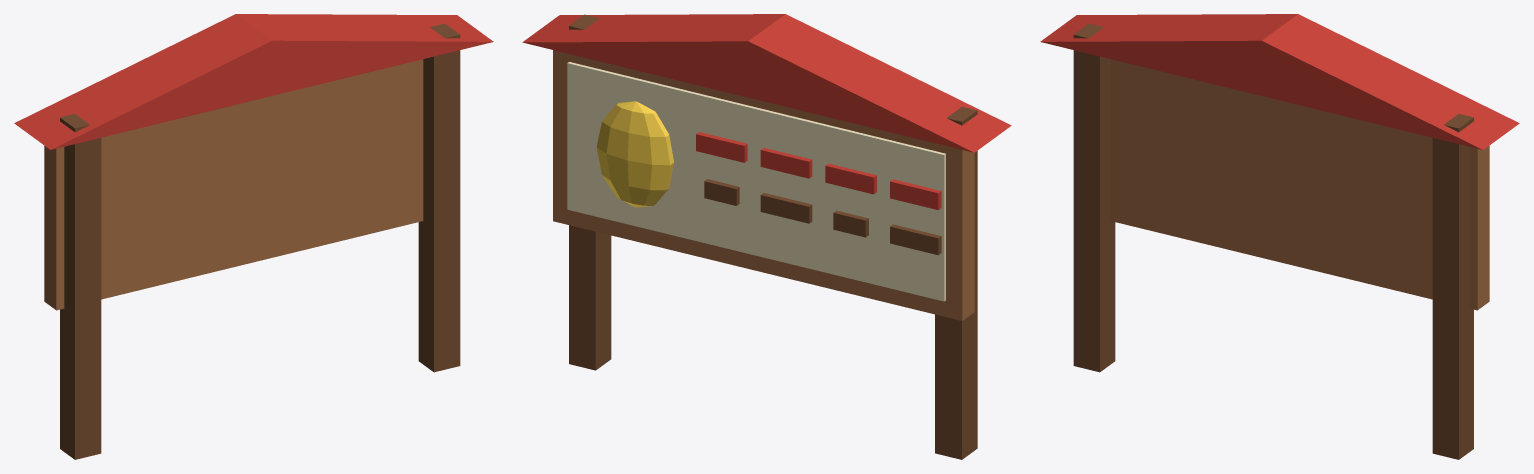
File: Signboard.fbx
The picture shows the model from 3 angles, left to right: view 1: azimuth 30°, elevation 25°; view 2: azimuth 150°, elevation 25°; view 3: azimuth 330°, elevation 25°; orthographic projection. The views are drawn at different scales.
Visible parts, largest first — view 1: Signboard; view 2: Signboard; view 3: Signboard.
Part boxes in pixels (x1,y1,x2,y2): Signboard: (14, 14, 493, 459); Signboard: (522, 14, 1011, 459); Signboard: (1040, 14, 1519, 459).
Bounding box in the file's own units: 235 × 190 × 35.56.
